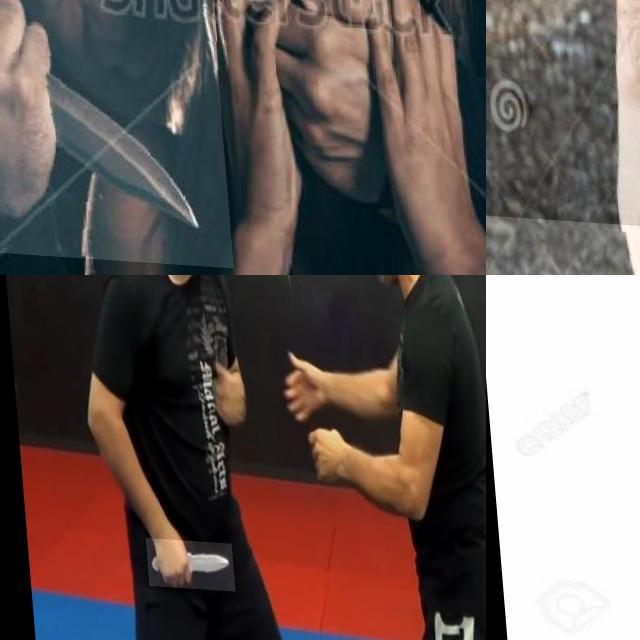-: (0, 0, 223, 264), (486, 203, 640, 275), (138, 536, 227, 588)
